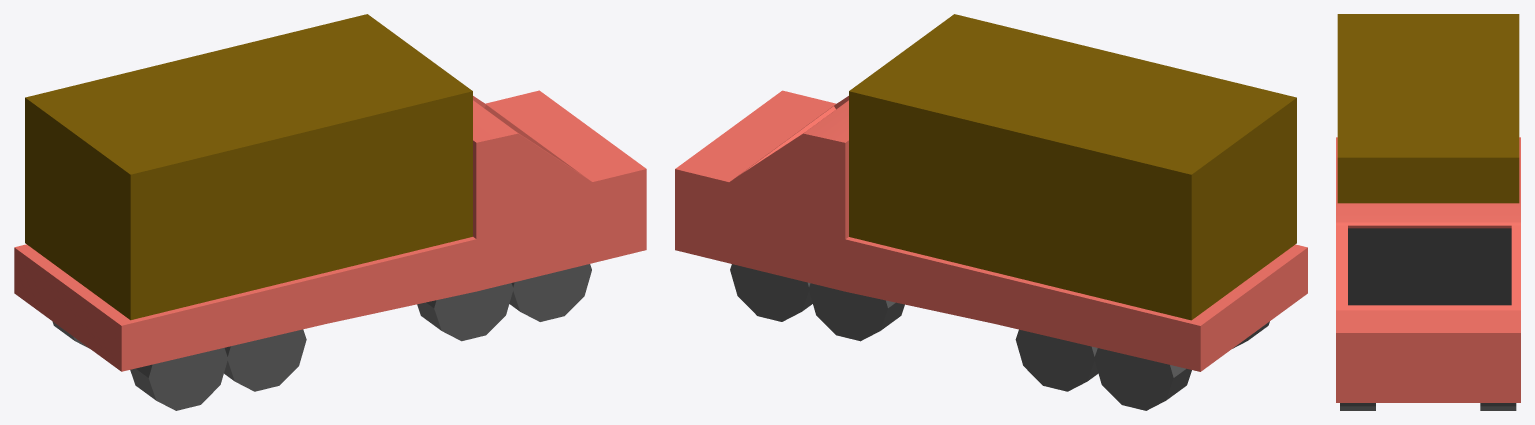
The model's file is Track.fbx.
3 renders of one model, left to right at view 1: azimuth 30°, elevation 25°; view 2: azimuth 150°, elevation 25°; view 3: azimuth 270°, elevation 25°, orthographic. The views are drawn at different scales.
Visible parts, largest first — view 1: pCube28; view 2: pCube28; view 3: pCube28.
Part boxes in pixels (x1=…): pCube28: x1=14, y1=14, x2=646, y2=410; pCube28: x1=675, y1=14, x2=1307, y2=410; pCube28: x1=1336, y1=14, x2=1520, y2=410.
Size of the model in its own units: 110 by 49.55 by 38.74.
